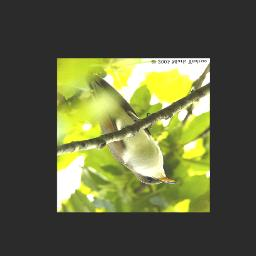Cuckoo: (83, 70, 179, 186)
